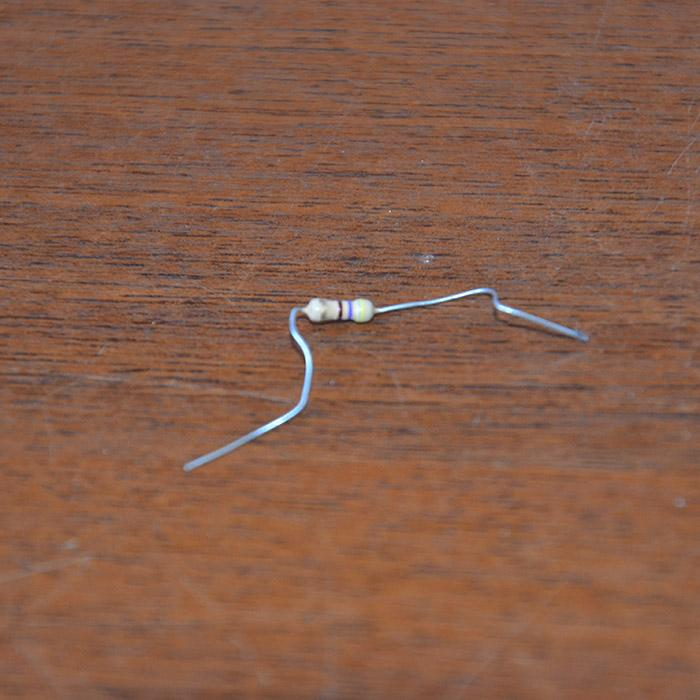resistor: (300, 296, 375, 323)
